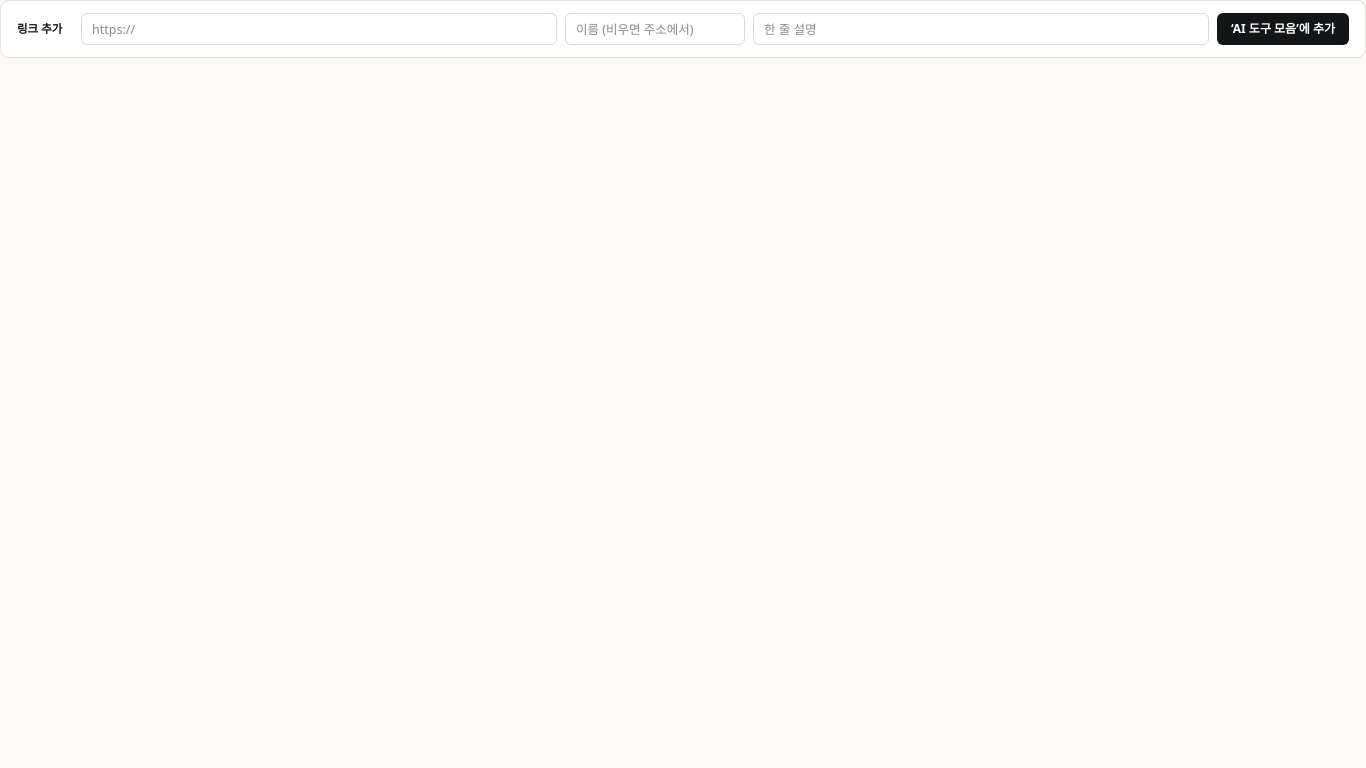
LinkAddRow — 등록 › 이름을 비웠으면 알림도 서버가 채울 이름으로 말한다
This screenshot has width=1366, height=768.
Step 1. Type "https://www.perplexity.ai/" into the field named "주소" → (319, 29), box [81,13,557,45]
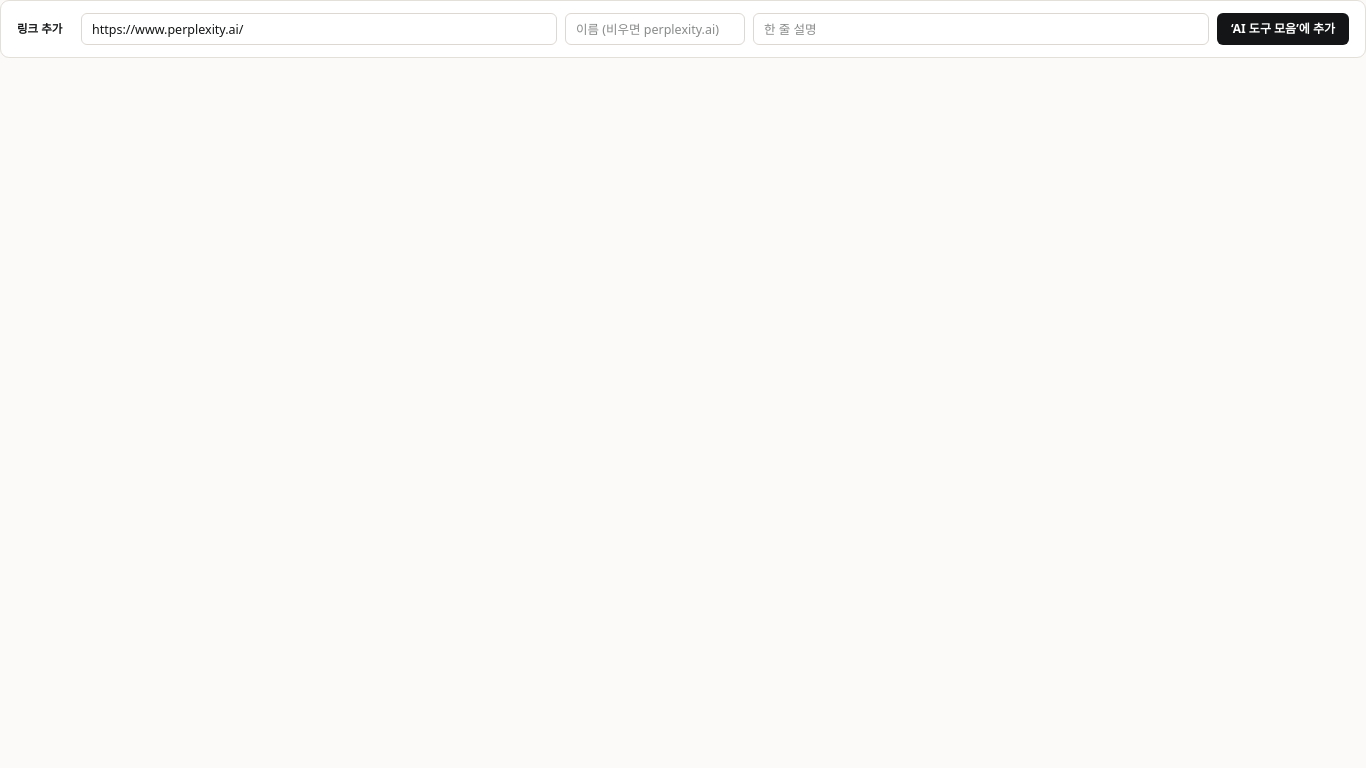
Step 2. Click the button "‘AI 도구 모음’에 추가" → click(1283, 29), box [1217,13,1349,45]
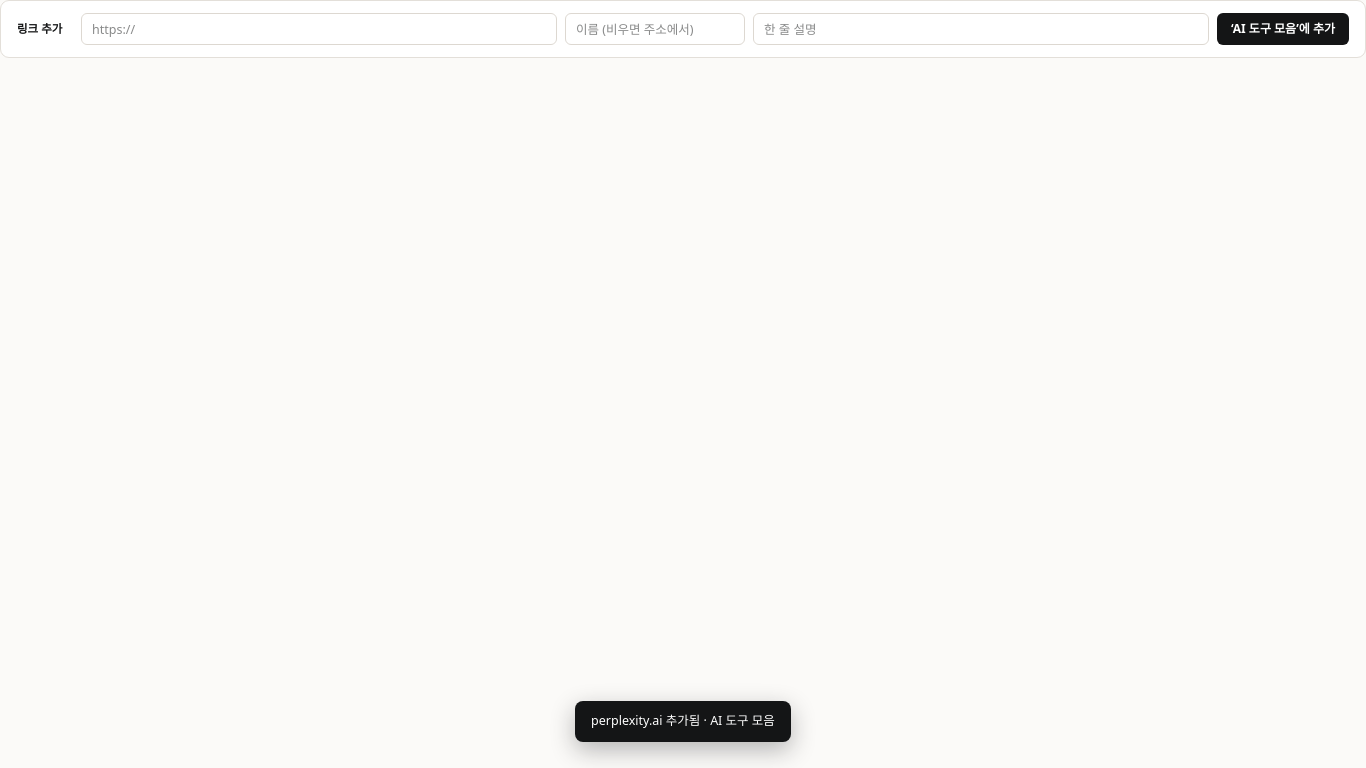
Expected: the message reads "perplexity.ai 추가됨 · AI 도구 모음", [591,712,775,729]
